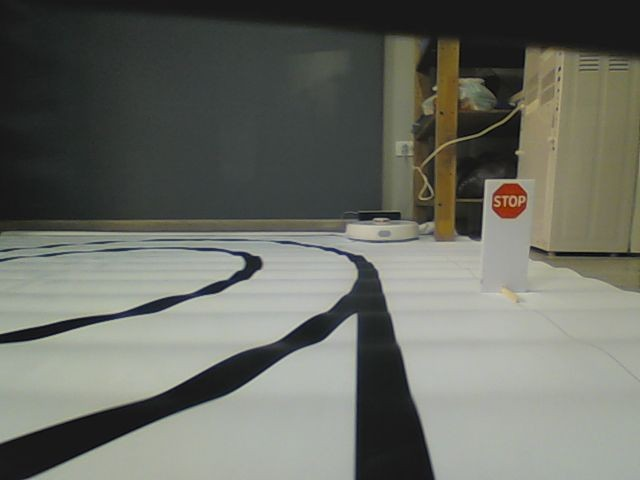Stop: (490, 183, 529, 219)
